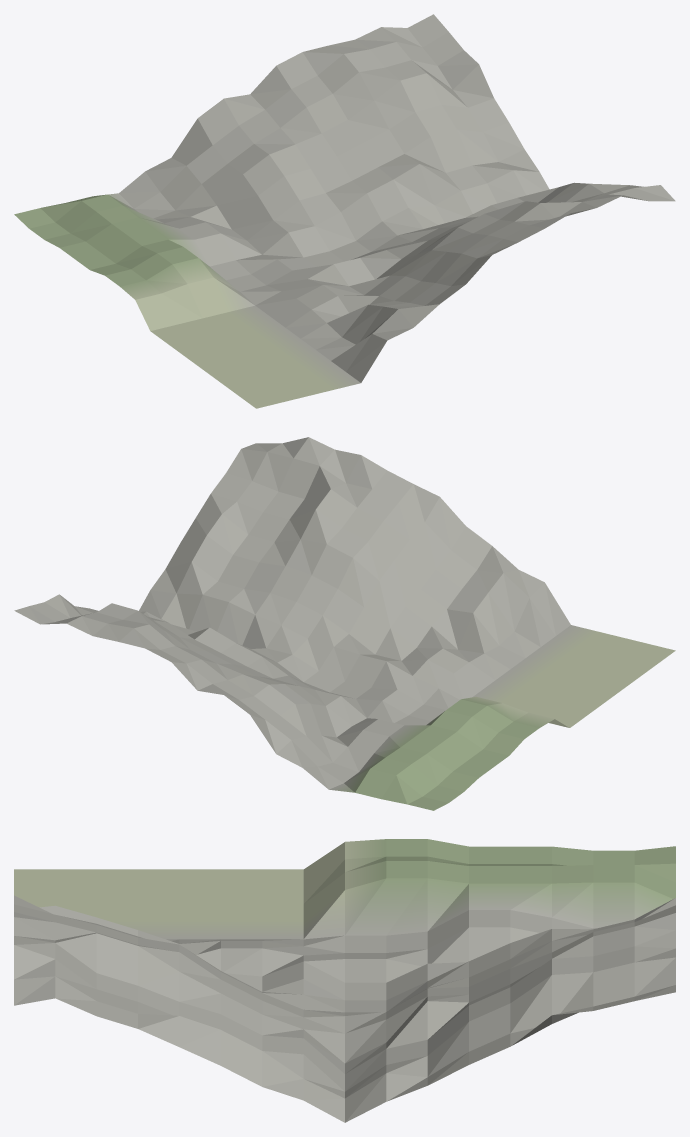
The picture shows the model from 3 angles, top to bottom: view 1: azimuth 30°, elevation 25°; view 2: azimuth 150°, elevation 25°; view 3: azimuth 270°, elevation 25°; orthographic projection. The views are drawn at different scales.
Bounding box in the file's own units: 32 × 9.03 × 32.
